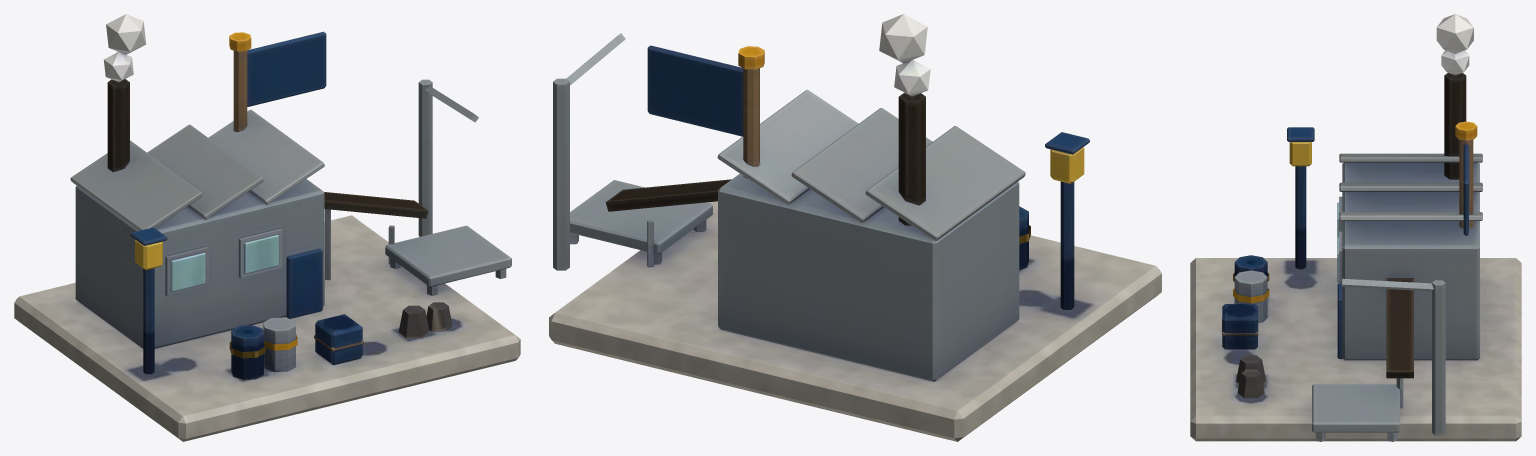
Rendered from fishery-15.glb.
3 renders of one model, left to right at view 1: azimuth 30°, elevation 25°; view 2: azimuth 150°, elevation 25°; view 3: azimuth 270°, elevation 25°, orthographic. The views are drawn at different scales.
Visible parts, largest first — view 1: fishery-15; view 2: fishery-15; view 3: fishery-15.
Boxes of the visible parts, <box> form: fishery-15: <box>14,14,520,441</box>; fishery-15: <box>549,14,1161,441</box>; fishery-15: <box>1190,14,1521,441</box>.
Bounding box in the file's own units: 1.61 × 1.22 × 1.2.
Materials: 1 (1 with a texture image).
